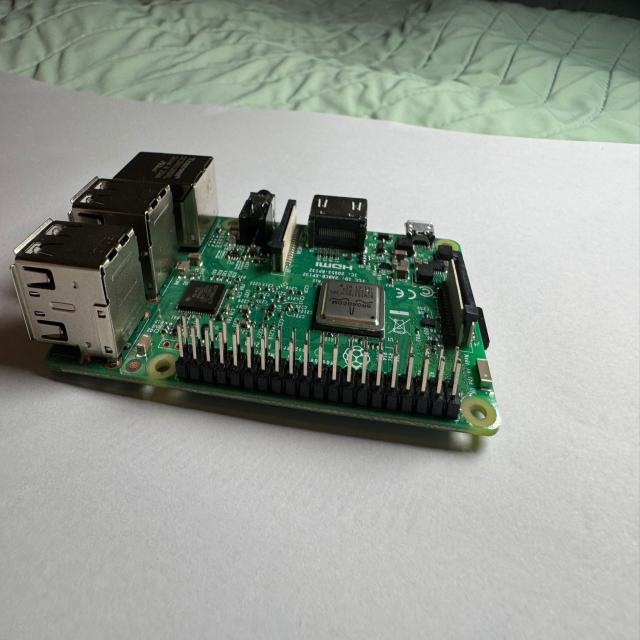CPU: (313, 279, 388, 339)
Ethernet: (108, 149, 223, 252)
GPIO: (173, 315, 465, 421)
HDMI: (304, 193, 369, 255)
RAM-3: (175, 277, 230, 317)
Raspberry: (12, 152, 502, 454)
